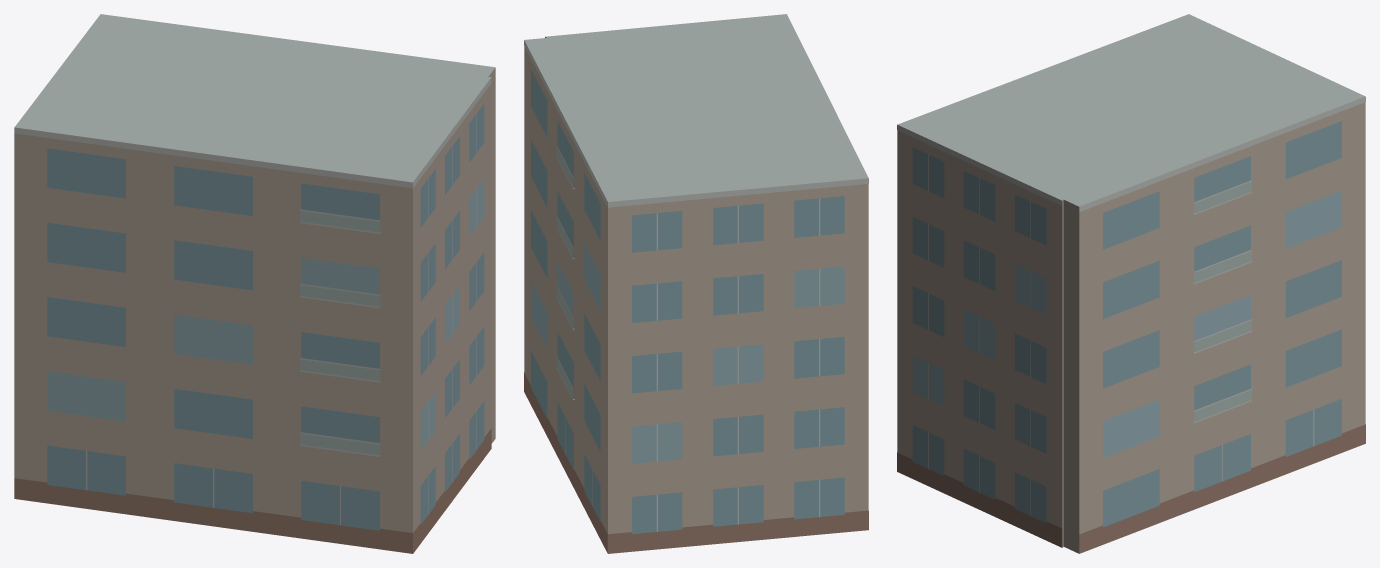
File: survey-upis-32710085.glb
3 views of the same model, side by side, from view 1: azimuth 30°, elevation 25°; view 2: azimuth 150°, elevation 25°; view 3: azimuth 270°, elevation 25° (orthographic). The views are drawn at different scales.
Visible parts, largest first — view 1: survey-upis-32710085.tmp; view 2: survey-upis-32710085.tmp; view 3: survey-upis-32710085.tmp.
Part boxes in pixels (box(x1,y1,x2,y2)): survey-upis-32710085.tmp: box(14, 14, 495, 553); survey-upis-32710085.tmp: box(524, 14, 868, 553); survey-upis-32710085.tmp: box(897, 14, 1365, 553).
Bounding box in the file's own units: 18.16 × 15.25 × 18.66.
